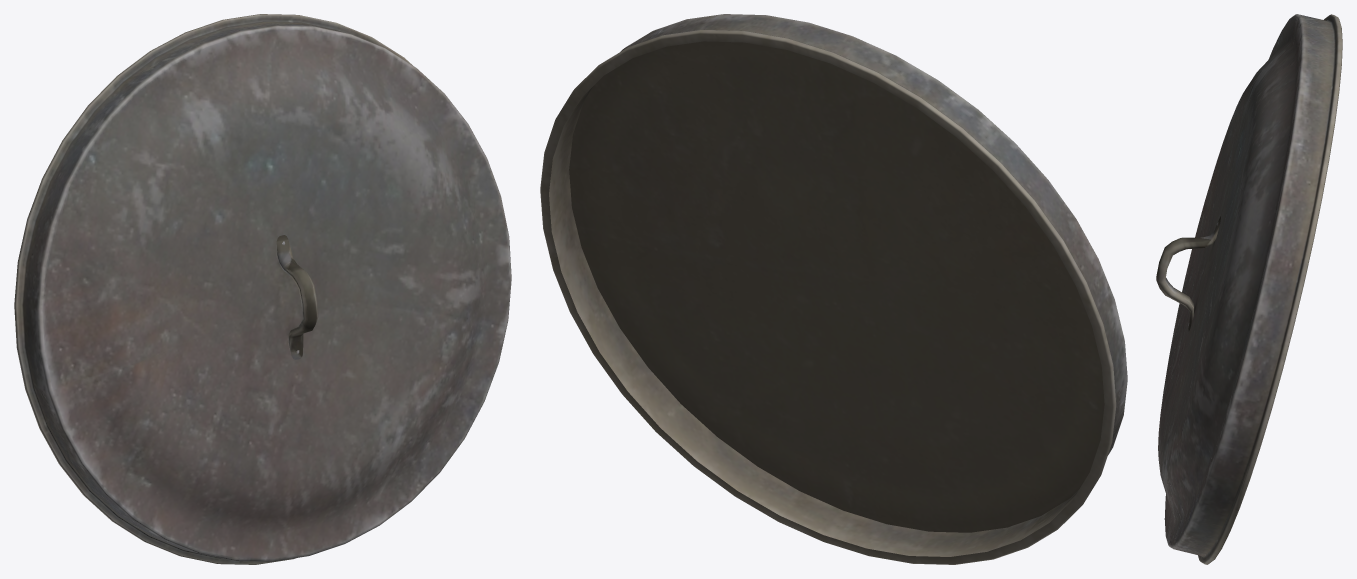
Rendered from metal_trash_can__metal_trash_can_lid.obj.
3 renders of one model, left to right at view 1: azimuth 30°, elevation 25°; view 2: azimuth 150°, elevation 25°; view 3: azimuth 270°, elevation 25°, orthographic. The views are drawn at different scales.
Visible parts, largest first — view 1: metal_trash_can_lid; view 2: metal_trash_can_lid; view 3: metal_trash_can_lid.
Part boxes in pixels (x1,y1,x2,y2): metal_trash_can_lid: (14, 14, 511, 564); metal_trash_can_lid: (540, 14, 1127, 564); metal_trash_can_lid: (1156, 14, 1342, 564).
Size of the model in its own units: 0.5563 by 0.5403 by 0.1837.
Materials: 1 (1 with a texture image).
